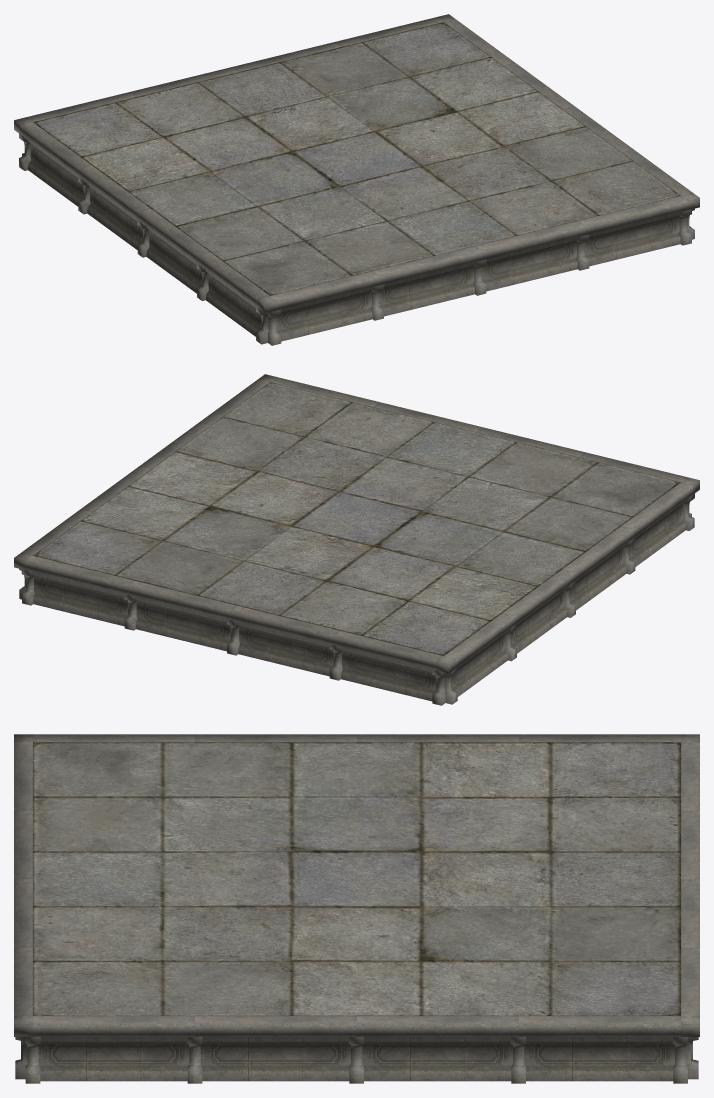
The model's file is ground1.FBX.
3 renders of one model, top to bottom at view 1: azimuth 30°, elevation 25°; view 2: azimuth 150°, elevation 25°; view 3: azimuth 270°, elevation 25°, orthographic. The views are drawn at different scales.
Parts seen in each view (by area): view 1: Arena_etc_001_Bimu_02; view 2: Arena_etc_001_Bimu_02; view 3: Arena_etc_001_Bimu_02.
Boxes of the visible parts, box(x1,y1,x2,y2) form: Arena_etc_001_Bimu_02: box(14, 14, 699, 345); Arena_etc_001_Bimu_02: box(14, 374, 699, 705); Arena_etc_001_Bimu_02: box(14, 734, 699, 1083).
Size of the model in its own units: 275 by 26.63 by 275.
2 materials, 2 textured.
